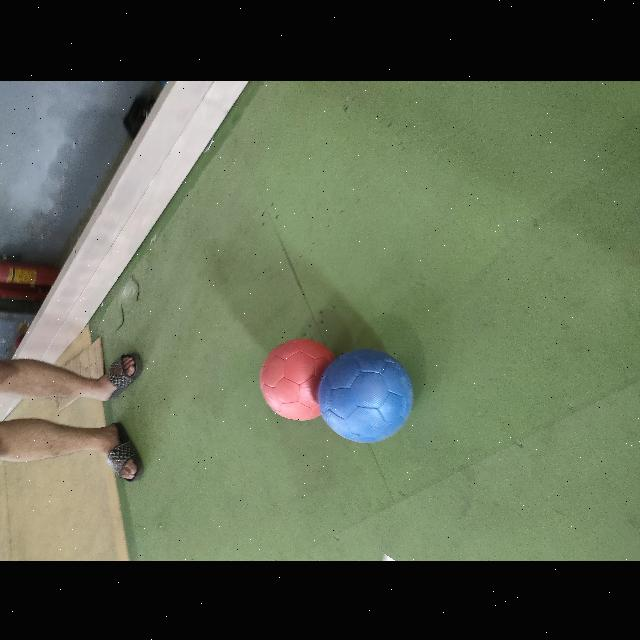B: (317, 349, 413, 442)
R: (259, 338, 335, 419)
